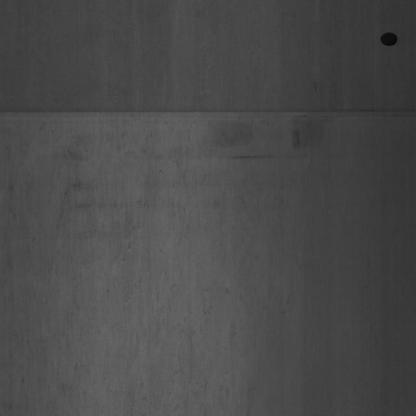punching_hole: (379, 29, 400, 52)
welding_line: (5, 95, 413, 133)
